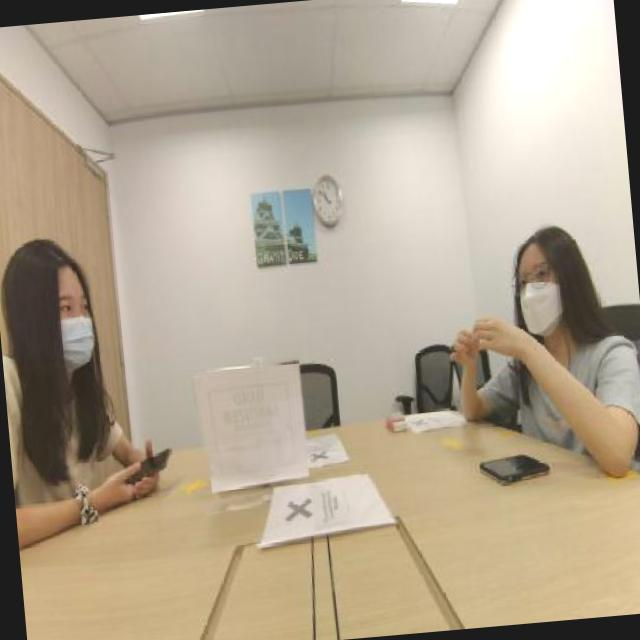Person: (461, 208, 640, 429), (0, 201, 125, 487)
